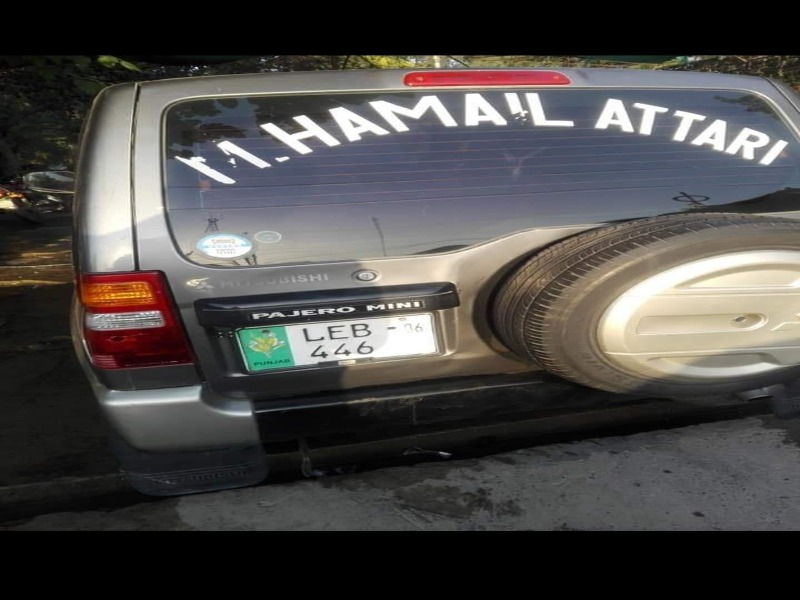License Plate: (229, 310, 446, 374)
